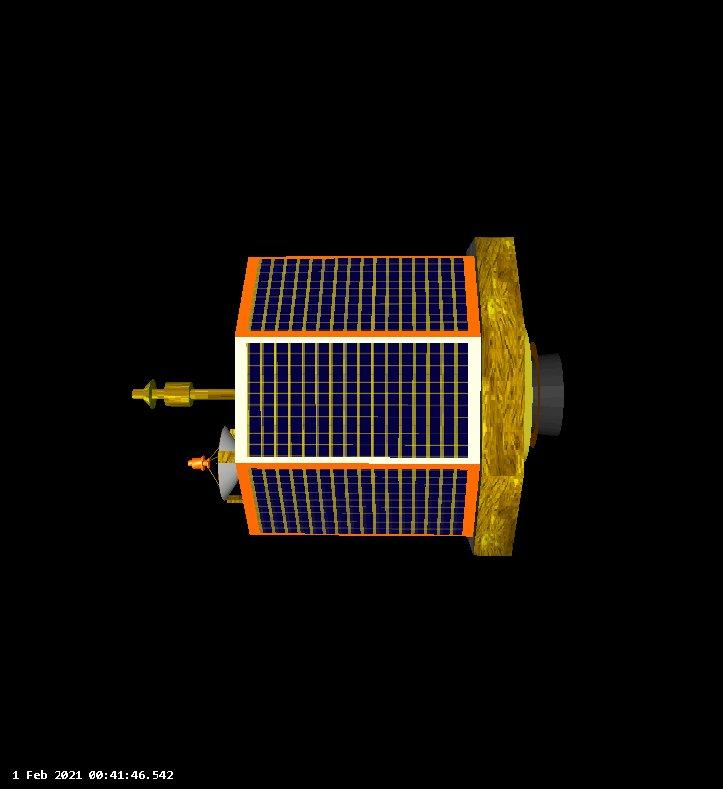antenna: (184, 423, 240, 509), (130, 377, 237, 416)
body: (232, 253, 486, 541)
solar: (245, 341, 470, 460), (245, 255, 470, 334), (247, 466, 470, 536)
thruster: (526, 347, 571, 442)
